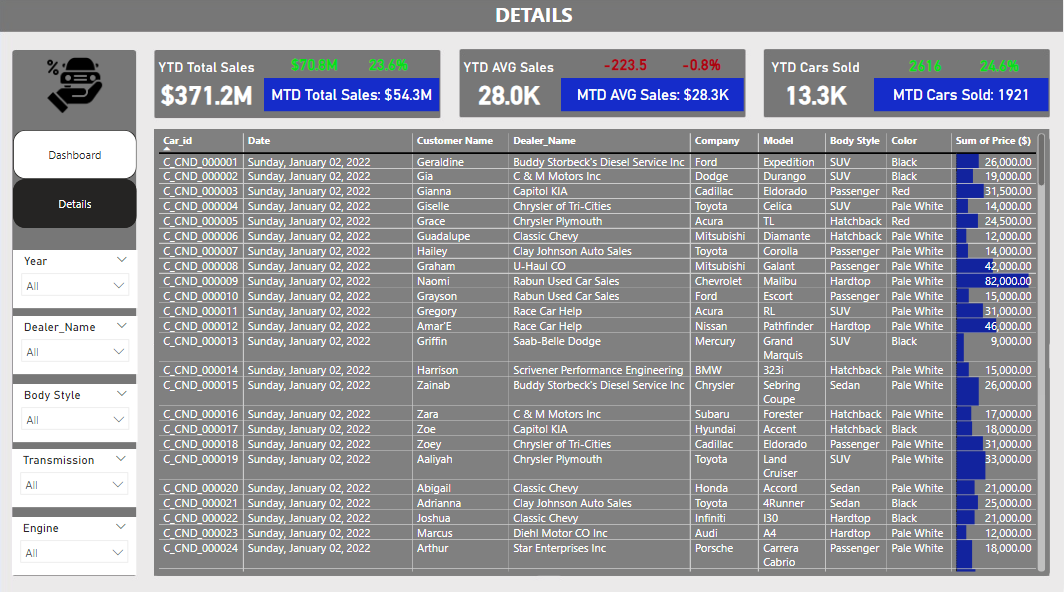

The page's visual inventory and layout, read from the dashboard file:
{"tool":"powerbi","page":{"name":"Details","canvas":[1280,720],"ordinal":1},"visuals":[{"type":"card","title":"YTD Total Sales","fields":{"Values":["car_data.YTD Total Sales"]},"box":[187.2,75.7,126.6,63.3],"z":0},{"type":"card","title":"Sales Diff","fields":{"Values":["car_data.Sales Diff"]},"box":[333.4,66.1,92.2,33],"z":1000},{"type":"card","title":"Sales Diff","fields":{"Values":["car_data.YOY Sales Gross"]},"box":[422.9,66.1,92.2,33],"z":2000},{"type":"card","title":"MTD Total Sales","fields":{"Values":["car_data.MTD KPI"]},"box":[319.3,98.9,210.6,39.9],"z":3000},{"type":"card","title":"YTD AVG Sales","fields":{"Values":["car_data.YTD Average Price"]},"box":[553.3,75.7,119.7,63.3],"z":4000},{"type":"card","title":"Sales Diff","fields":{"Values":["car_data.Avg diff"]},"box":[707.4,66.1,92.2,33],"z":5000},{"type":"card","title":"Sales Diff","fields":{"Values":["car_data.YOY Growth Average Price"]},"box":[799.7,66.1,92.2,33],"z":6000},{"type":"card","title":"MTD Total Sales","fields":{"Values":["car_data.MTD AVG KPI"]},"box":[677.2,98.9,220.5,40.1],"z":7000},{"type":"card","title":"YTD Cars Sold","fields":{"Values":["car_data.YTD Cars Sold"]},"box":[922.1,75.9,121.7,63],"z":8000},{"type":"card","title":"MTD Total Sales","fields":{"Values":["car_data.MTD Count KPI"]},"box":[1053.8,98.9,210.5,40.1],"z":9000},{"type":"card","title":"Sales Diff","fields":{"Values":["car_data.Count Diff"]},"box":[1069.3,67.5,92.2,33],"z":10000},{"type":"card","title":"Sales Diff","fields":{"Values":["car_data.YOY Growth Cars Sold"]},"box":[1158.8,67.5,92.2,33],"z":11000},{"type":"tableEx","fields":{"Values":["car_data.Car_id","car_data.Date","car_data.Customer Name","car_data.Dealer_Name","car_data.Company","car_data.Model","car_data.Body Style","car_data.Color","Sum(car_data.Price ($))"]},"box":[187.2,159.7,1077.7,538.2],"z":12000},{"type":"textbox","box":[511.1,0,257.7,65.9],"z":13000},{"type":"pageNavigator","box":[16.5,161,149,119.7],"z":14000},{"type":"slicer","fields":{"Values":["car_data.Body Style"]},"box":[16.5,467,150,70.2],"z":15000},{"type":"slicer","fields":{"Values":["car_data.Dealer_Name"]},"box":[16.5,385.8,150,70.2],"z":16000},{"type":"slicer","fields":{"Values":["car_data.Transmission"]},"box":[15.1,545.4,150,70.2],"z":17000},{"type":"slicer","fields":{"Values":["car_data.Engine"]},"box":[15.7,627.2,150,70.2],"z":18000},{"type":"slicer","fields":{"Values":["Calender Table.Year"]},"box":[16.5,306,150,70.2],"z":19000},{"type":"image","box":[15.1,66.1,150,82.6],"z":19001}]}

Visuals, with their boxes in screenshot pixels (x1, y1, x2, y2), scaled from the page's 1280x720 canvas onto the 1064x592 screenshot:
"YTD Total Sales" card: l=156, t=62, r=261, b=114
"Sales Diff" card: l=277, t=54, r=354, b=81
"Sales Diff" card: l=352, t=54, r=428, b=81
"MTD Total Sales" card: l=265, t=81, r=440, b=114
"YTD AVG Sales" card: l=460, t=62, r=559, b=114
"Sales Diff" card: l=588, t=54, r=665, b=81
"Sales Diff" card: l=665, t=54, r=741, b=81
"MTD Total Sales" card: l=563, t=81, r=746, b=114
"YTD Cars Sold" card: l=766, t=62, r=868, b=114
"MTD Total Sales" card: l=876, t=81, r=1051, b=114
"Sales Diff" card: l=889, t=56, r=965, b=83
"Sales Diff" card: l=963, t=56, r=1040, b=83
tableEx - car_data.Car_id x car_data.Date: l=156, t=131, r=1051, b=574
textbox: l=425, t=0, r=639, b=54
pageNavigator: l=14, t=132, r=138, b=231
slicer - car_data.Body Style: l=14, t=384, r=138, b=442
slicer - car_data.Dealer_Name: l=14, t=317, r=138, b=375
slicer - car_data.Transmission: l=13, t=448, r=137, b=506
slicer - car_data.Engine: l=13, t=516, r=138, b=573
slicer - Calender Table.Year: l=14, t=252, r=138, b=309
image: l=13, t=54, r=137, b=122
